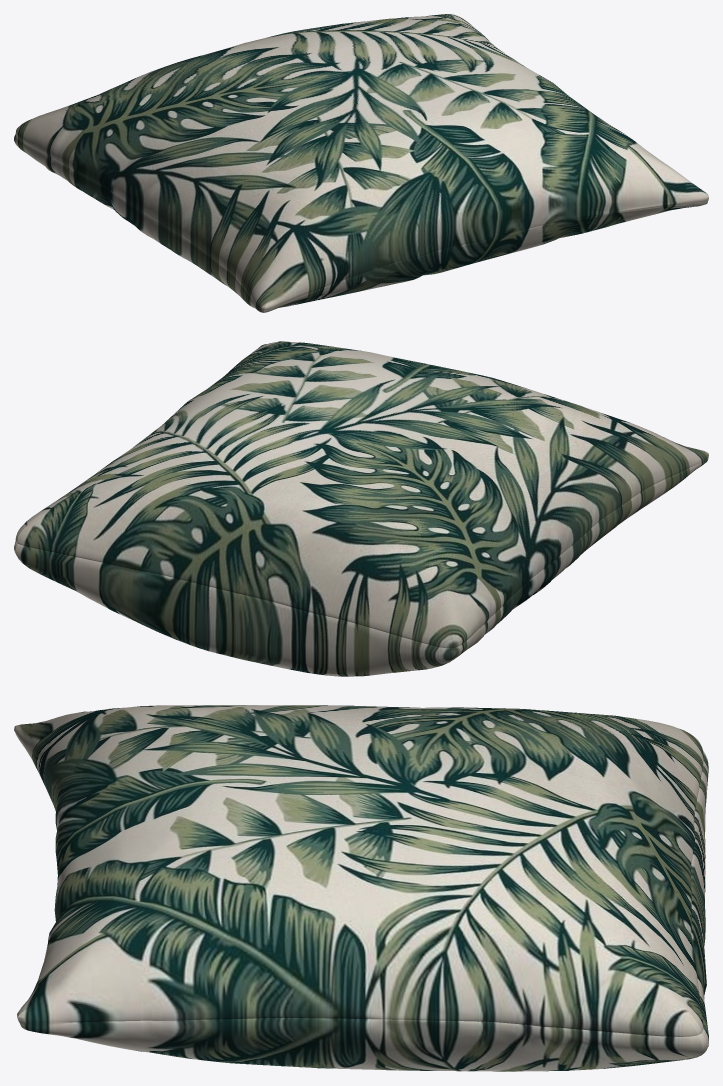
Rendered from pillow.glb.
The picture shows the model from 3 angles, top to bottom: view 1: azimuth 30°, elevation 25°; view 2: azimuth 150°, elevation 25°; view 3: azimuth 270°, elevation 25°; orthographic projection. The views are drawn at different scales.
Visible parts, largest first — view 1: Cushion-02; view 2: Cushion-02; view 3: Cushion-02.
Boxes of the visible parts, x1,y1,x2,y2 form: Cushion-02: (14,14,708,312); Cushion-02: (14,341,708,676); Cushion-02: (14,705,708,1071).
Size of the model in its own units: 0.4376 by 0.1507 by 0.4342.
1 material, 1 textured.
